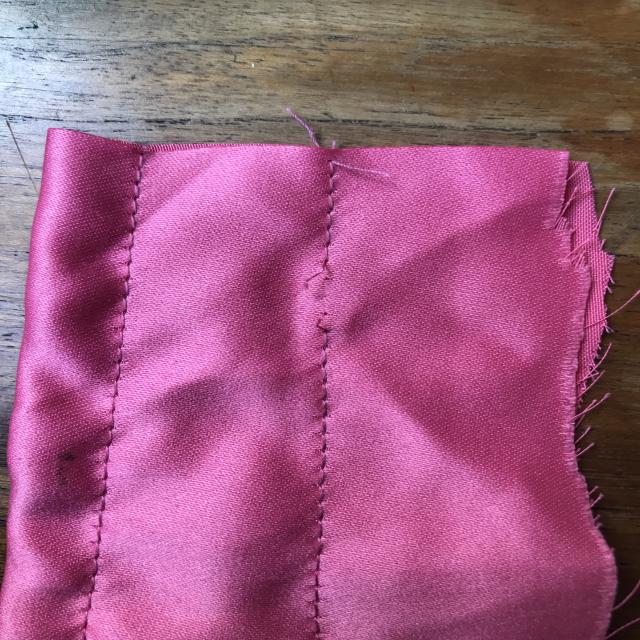broken: (291, 251, 359, 345)
